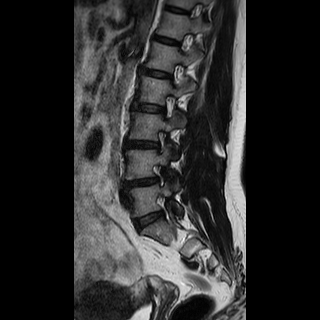LFS0: (147, 124, 172, 159), (155, 90, 181, 123), (163, 59, 188, 88)
RFS0: (145, 161, 173, 192)
